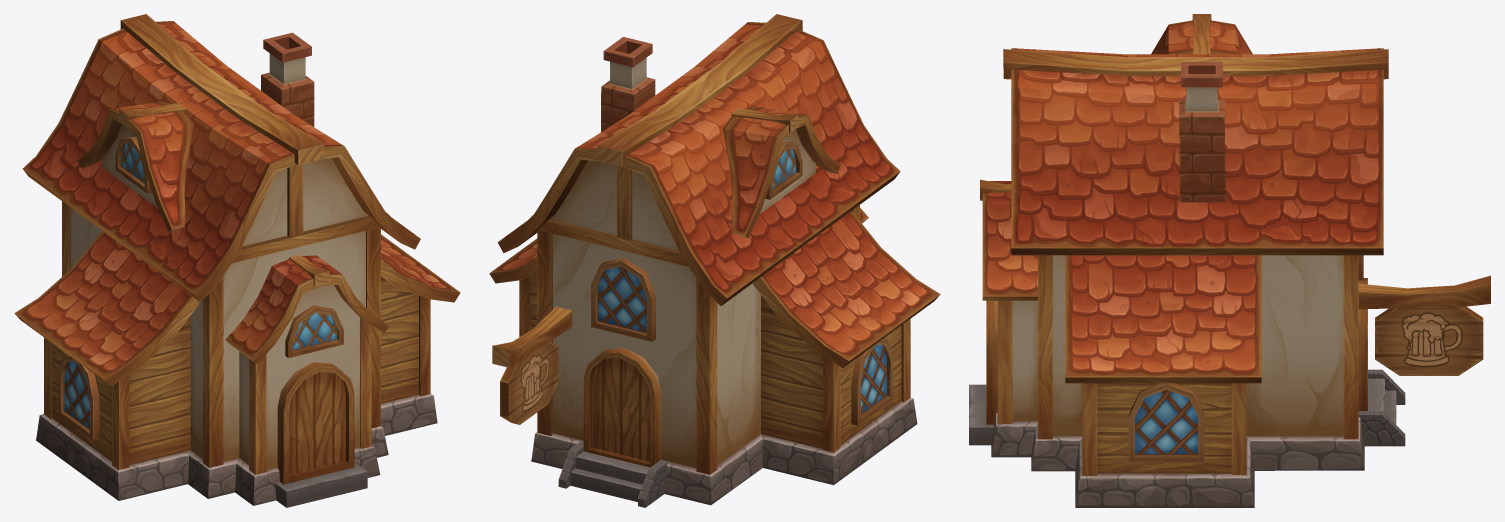
Rendered from Tavern.FBX.
The picture shows the model from 3 angles, left to right: view 1: azimuth 30°, elevation 25°; view 2: azimuth 150°, elevation 25°; view 3: azimuth 270°, elevation 25°; orthographic projection. The views are drawn at different scales.
Visible parts, largest first — view 1: Tavern; view 2: Tavern; view 3: Tavern.
Boxes of the visible parts, x1,y1,x2,y2 form: Tavern: [14, 14, 460, 507]; Tavern: [489, 14, 940, 507]; Tavern: [969, 14, 1490, 507].
Size of the model in its own units: 9.22 by 8.9 by 10.79.
